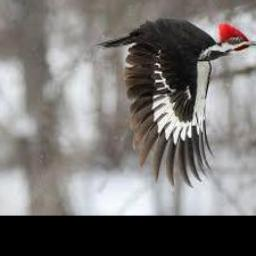Woodpecker: (98, 20, 256, 185)
